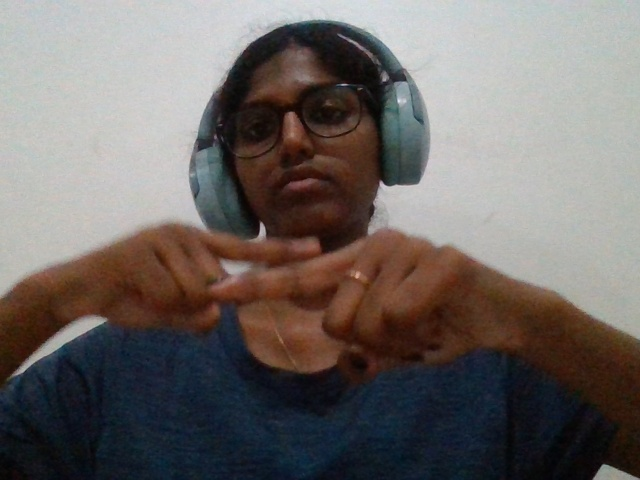Sign: (22, 192, 563, 430)
